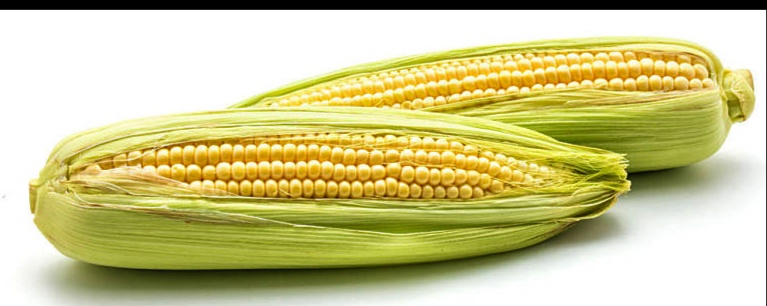corn: (22, 108, 633, 265), (208, 35, 754, 171)
